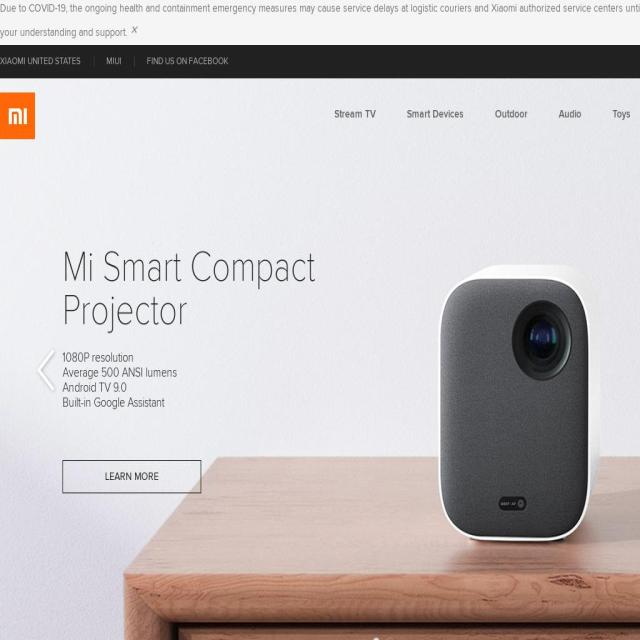button: (25, 78, 63, 640), (62, 460, 202, 493), (372, 637, 379, 640), (386, 637, 393, 640)
heading: (63, 247, 375, 333)
image: (0, 92, 35, 139)
link: (0, 56, 81, 66), (147, 56, 228, 66), (407, 108, 464, 120), (334, 108, 376, 120), (495, 108, 527, 120), (559, 108, 581, 120), (612, 108, 630, 120), (106, 56, 122, 66)
text: (0, 2, 640, 38), (62, 366, 177, 379), (62, 396, 164, 409), (63, 351, 134, 364), (62, 381, 127, 394), (130, 22, 137, 40)
